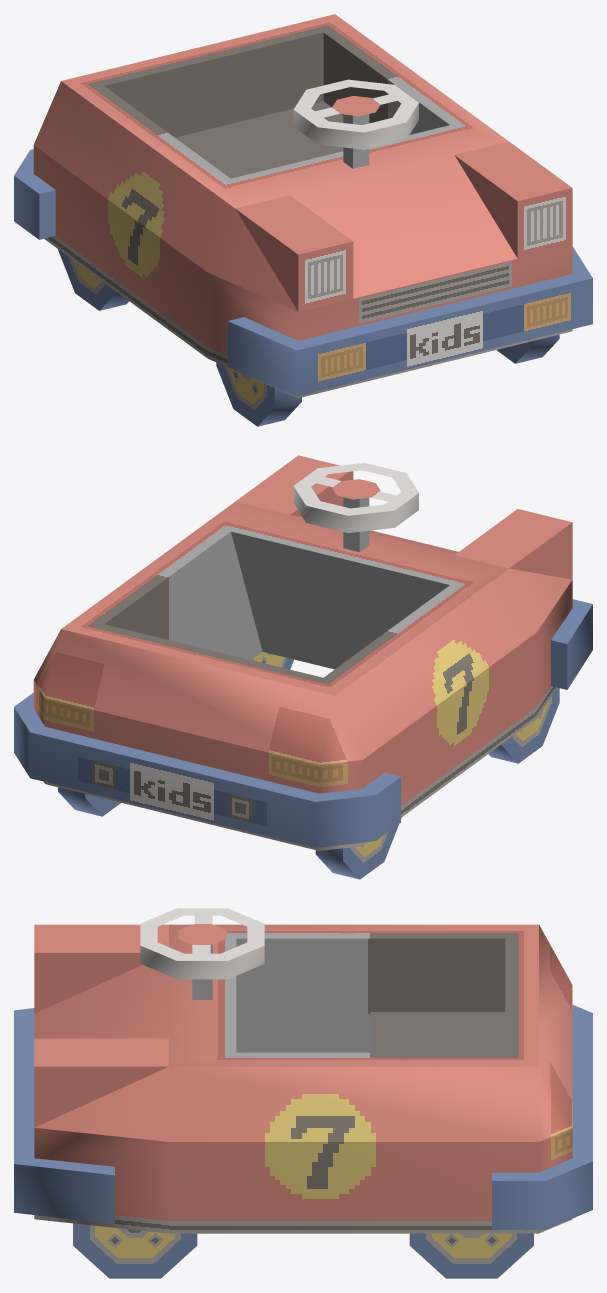
Rendered from 02f1_Kiddie_Car.glb.
3 views of the same model, one above another, from view 1: azimuth 30°, elevation 25°; view 2: azimuth 150°, elevation 25°; view 3: azimuth 270°, elevation 25° (orthographic). The views are drawn at different scales.
Parts seen in each view (by area): view 1: part_0, part_1, part_2; view 2: part_0, part_2, part_1; view 3: part_0, part_1, part_2.
Part boxes in pixels (left/top/right/bottom): part_0: left=14, top=14, right=592, bottom=397; part_1: left=216, top=334, right=559, bottom=426; part_2: left=58, top=249, right=129, bottom=310; part_0: left=14, top=455, right=592, bottom=850; part_2: left=58, top=787, right=401, bottom=879; part_1: left=251, top=652, right=559, bottom=763; part_0: left=14, top=908, right=592, bottom=1233; part_1: left=73, top=1223, right=197, bottom=1278; part_2: left=409, top=1233, right=533, bottom=1278.
Bounding box in the file's own units: 0.66 × 0.4426 × 0.86.
Materials: 3 (3 with a texture image).
